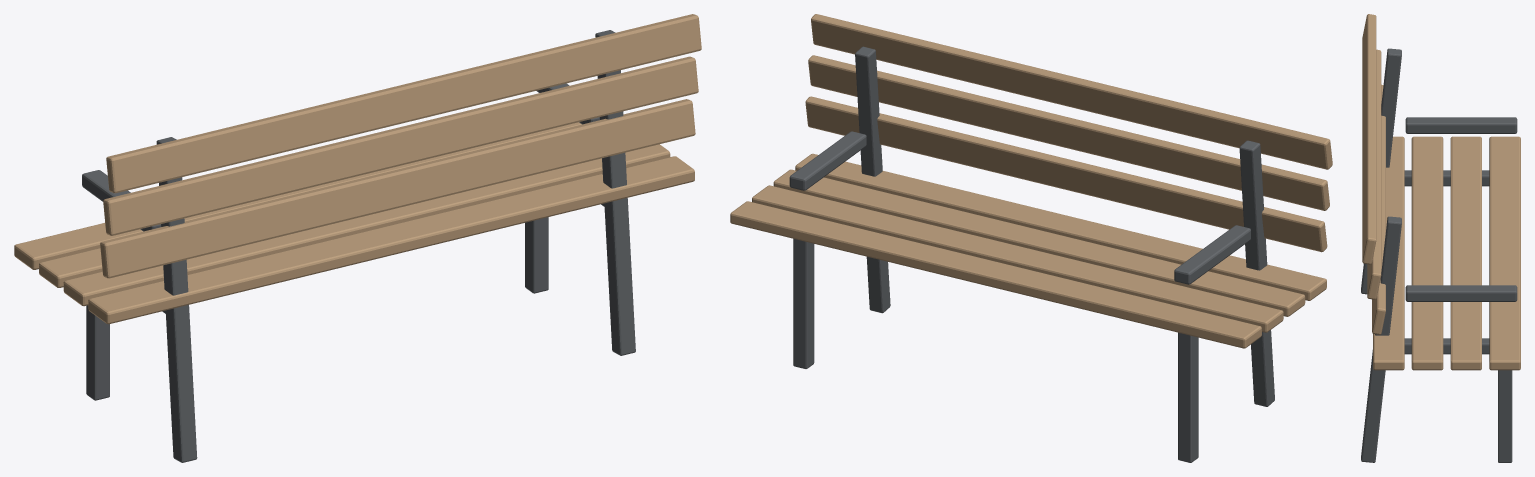
Rendered from park_bench.glb.
3 views of the same model, side by side, from view 1: azimuth 30°, elevation 25°; view 2: azimuth 150°, elevation 25°; view 3: azimuth 270°, elevation 25° (orthographic). The views are drawn at different scales.
Parts seen in each view (by area): view 1: park_bench; view 2: park_bench; view 3: park_bench.
Part boxes in pixels (x1,y1,x2,y2): park_bench: (14, 14, 701, 462); park_bench: (730, 14, 1332, 462); park_bench: (1361, 14, 1520, 462).
Bounding box in the file's own units: 2.2 × 1.14 × 0.6592.
